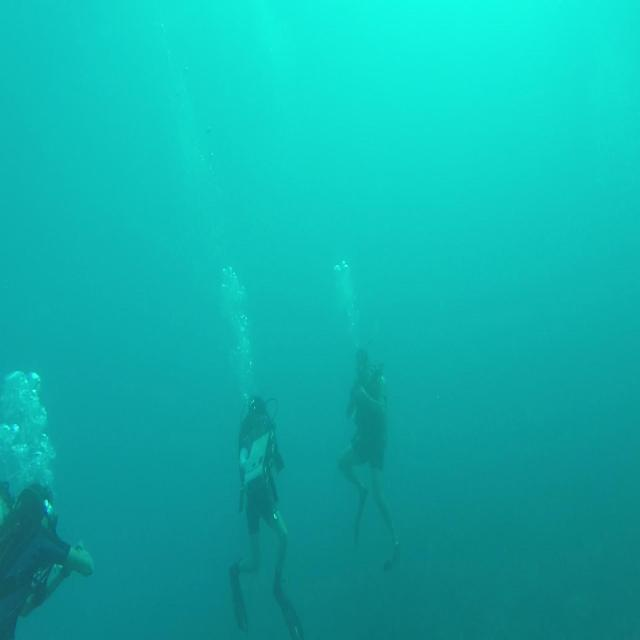human: (228, 393, 304, 638), (0, 481, 94, 638), (337, 346, 401, 572)
